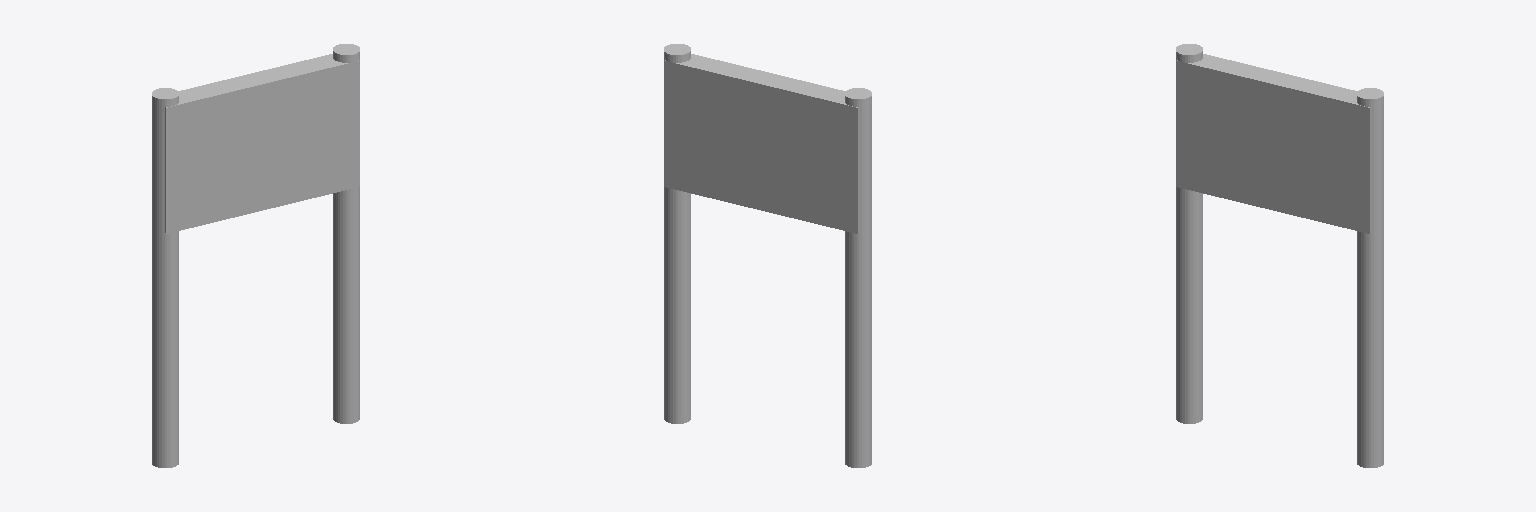
The model's file is board.obj.
3 views of the same model, side by side, from view 1: azimuth 30°, elevation 25°; view 2: azimuth 150°, elevation 25°; view 3: azimuth 330°, elevation 25° (orthographic).
Parts seen in each view (by area): view 1: Cube_Cube.001, Cylinder, Cylinder.001; view 2: Cube_Cube.001, Cylinder, Cylinder.001; view 3: Cube_Cube.001, Cylinder.001, Cylinder.
Part boxes in pixels (x1,y1,x2,y2): Cube_Cube.001: (165, 54, 359, 233); Cylinder: (152, 88, 178, 467); Cylinder.001: (333, 44, 359, 423); Cube_Cube.001: (664, 54, 858, 233); Cylinder: (845, 88, 871, 467); Cylinder.001: (664, 44, 690, 423); Cube_Cube.001: (1176, 54, 1370, 233); Cylinder.001: (1357, 88, 1383, 467); Cylinder: (1176, 44, 1202, 423).
Bounding box in the file's own units: 3.4 × 5.84 × 0.4.